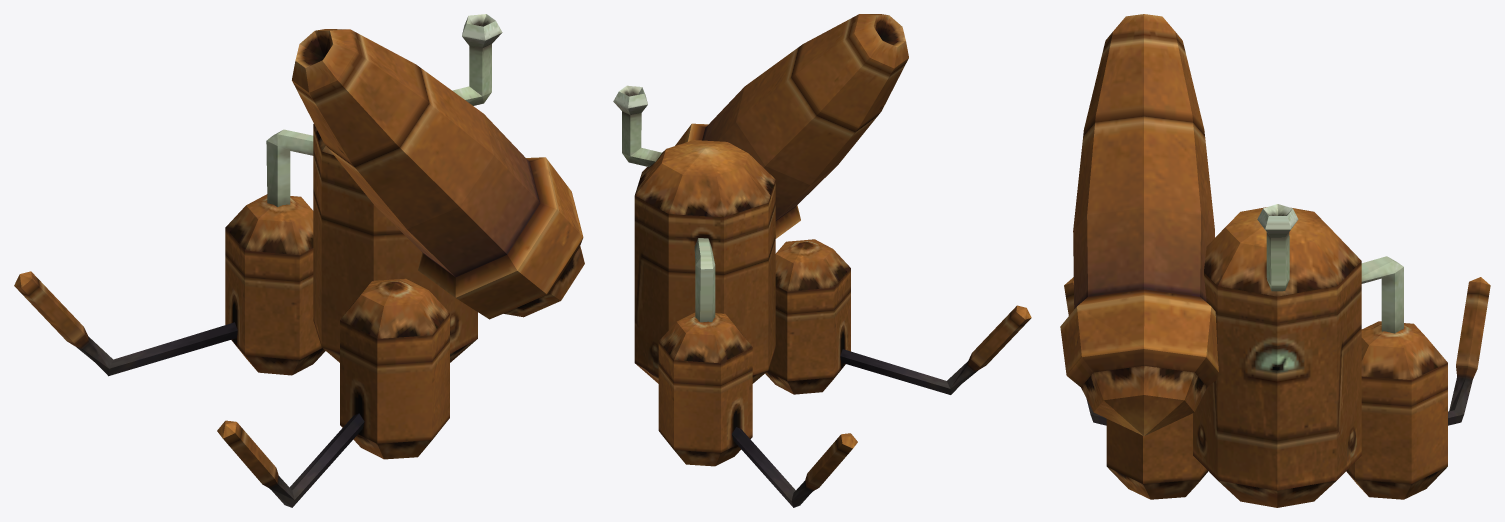
The model's file is Mole_steamCannon.obj.
The picture shows the model from 3 angles, left to right: view 1: azimuth 30°, elevation 25°; view 2: azimuth 150°, elevation 25°; view 3: azimuth 270°, elevation 25°; orthographic projection. The views are drawn at different scales.
Visible parts, largest first — view 1: Mole_steamCannon_tri; view 2: Mole_steamCannon_tri; view 3: Mole_steamCannon_tri.
Boxes of the visible parts, x1,y1,x2,y2 form: Mole_steamCannon_tri: [14, 14, 584, 507]; Mole_steamCannon_tri: [613, 14, 1031, 507]; Mole_steamCannon_tri: [1060, 14, 1490, 507].
Bounding box in the file's own units: 0.7065 × 0.7749 × 0.6785.
Materials: 1 (1 with a texture image).
